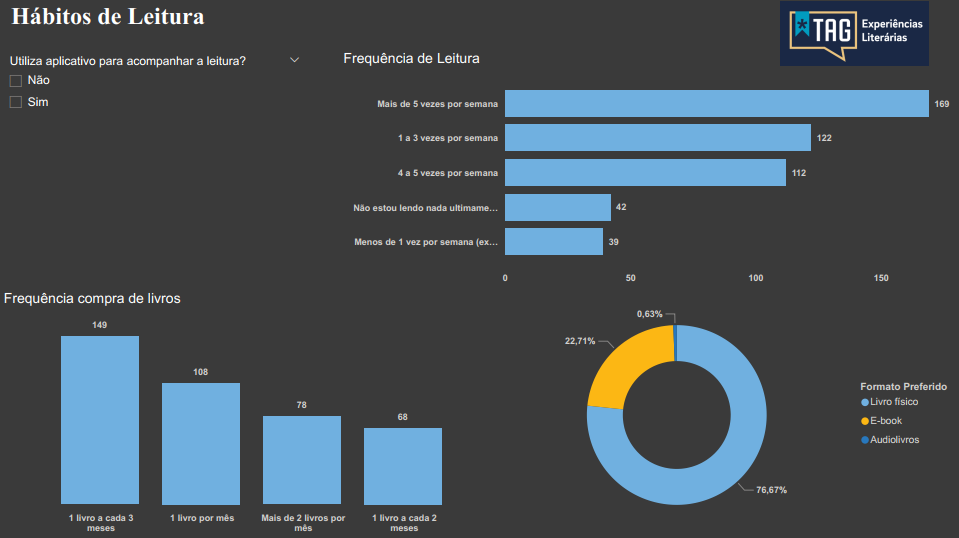

This screenshot's page, from the dashboard's own definition file:
{"tool":"powerbi","page":{"name":"Hábitos de Leitura","canvas":[1280,720],"ordinal":1},"visuals":[{"type":"barChart","title":"Frequência de Leitura","fields":{"Category":["Base.Quantas vezes por semana você lê algum livro?"],"Y":["CountNonNull(Base.Quantas vezes por semana você lê algum livro?)"]},"box":[452.5,69.7,827.5,319.2],"z":0},{"type":"textbox","box":[10.1,0,729,58.8],"z":1000},{"type":"donutChart","fields":{"Category":["Base.Qual formato de leitura você prefere consumir?"],"Y":["CountNonNull(Base.Qual formato de leitura você prefere consumir?)"]},"box":[650.8,389,629.2,331.6],"z":2000},{"type":"lineStackedColumnComboChart","title":"Frequência compra de livros","fields":{"Category":["Base.Com qual frequência você costuma comprar livros?"],"Y":["CountNonNull(Base.Com qual frequência você costuma comprar livros?)"]},"box":[0,389,650.8,331.6],"z":3000},{"type":"slicer","fields":{"Values":["Base.Você utiliza aplicativos para acompanhamento de leitura?"]},"box":[0,69.7,410.7,128.6],"z":4000},{"type":"image","box":[993.4,0,286.6,95],"z":5000}]}

Visuals, with their boxes in screenshot pixels (x1, y1, x2, y2), scaled from the page's 1280x720 canvas onto the 959x538 screenshot:
"Frequência de Leitura" barChart: (left=339, top=52, right=958, bottom=291)
textbox: (left=8, top=0, right=554, bottom=44)
donutChart - Base.Qual formato de leitura você prefere consumir? x CountNonNull(Base.Qual formato de leitura você prefere consumir?): (left=488, top=291, right=958, bottom=537)
"Frequência compra de livros" lineStackedColumnComboChart: (left=0, top=291, right=488, bottom=537)
slicer - Base.Você utiliza aplicativos para acompanhamento de leitura?: (left=0, top=52, right=308, bottom=148)
image: (left=744, top=0, right=958, bottom=71)
